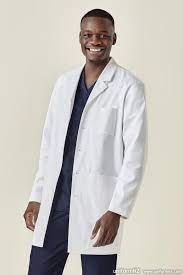lab_coat: (28, 54, 148, 255)
